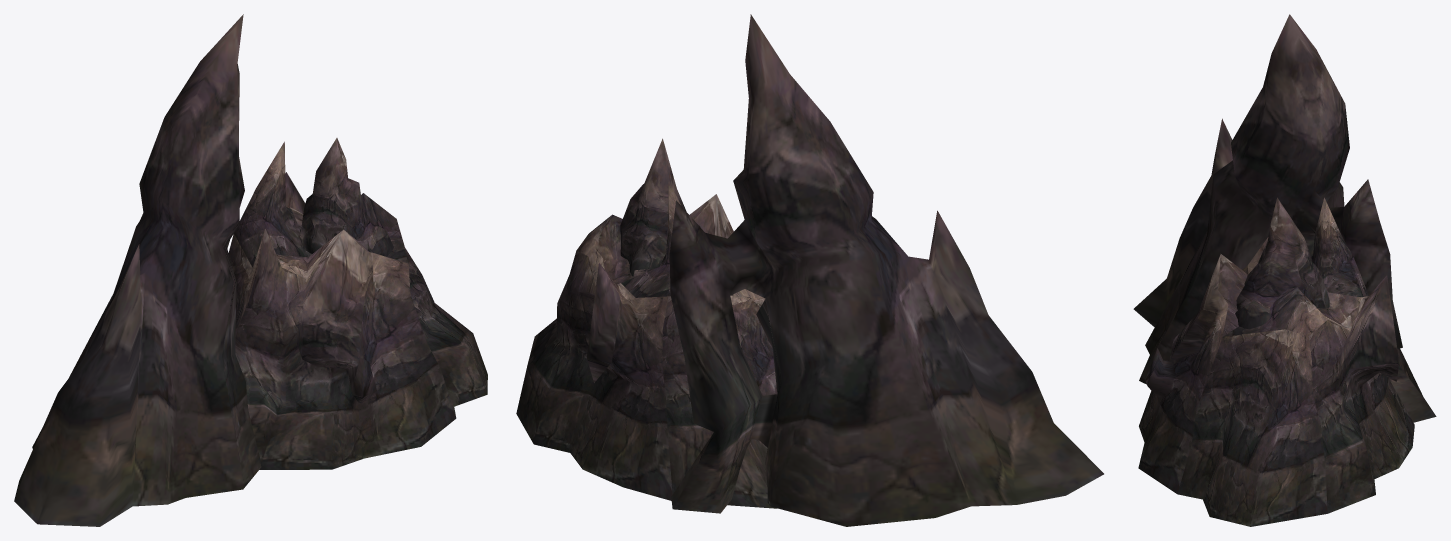
The model's file is S_Rock_Black067.FBX.
3 views of the same model, side by side, from view 1: azimuth 30°, elevation 25°; view 2: azimuth 150°, elevation 25°; view 3: azimuth 270°, elevation 25° (orthographic). The views are drawn at different scales.
Parts seen in each view (by area): view 1: S_Rock_Black067; view 2: S_Rock_Black067; view 3: S_Rock_Black067.
Part boxes in pixels (box(x1,y1,x2,y2)): S_Rock_Black067: box(14, 14, 487, 526); S_Rock_Black067: box(516, 14, 1103, 526); S_Rock_Black067: box(1133, 14, 1436, 526).
Bounding box in the file's own units: 475 × 253 × 376.
